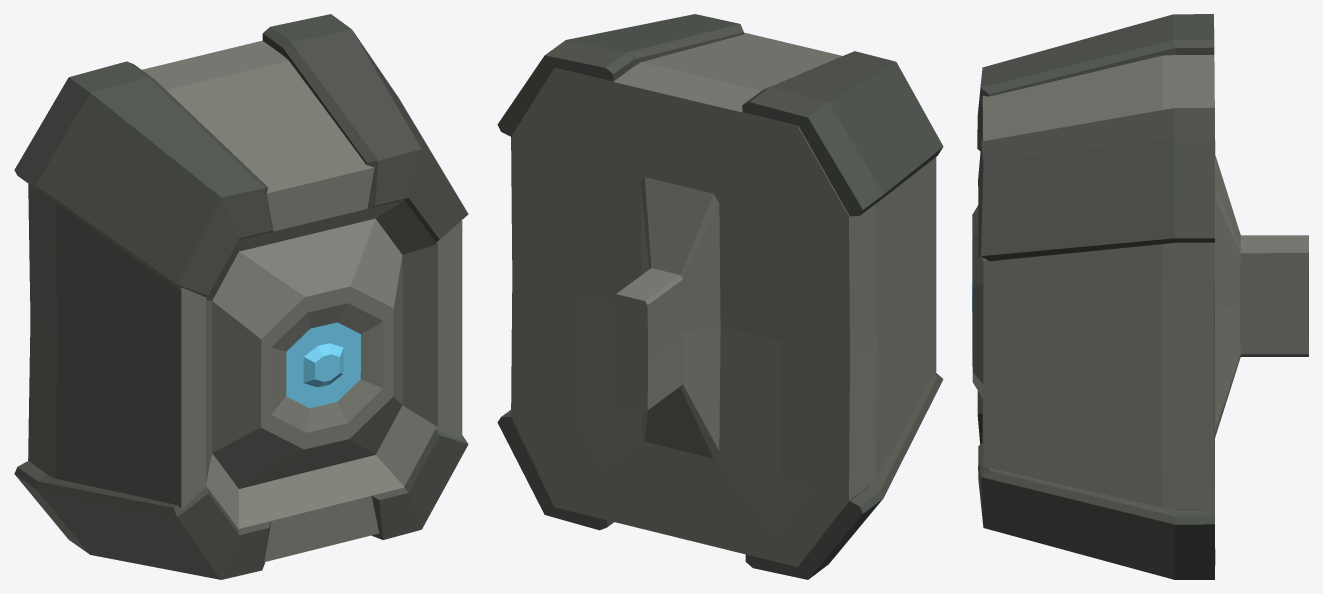
The model's file is 绕柱移动的发射器.fbx.
The picture shows the model from 3 angles, left to right: view 1: azimuth 30°, elevation 25°; view 2: azimuth 150°, elevation 25°; view 3: azimuth 270°, elevation 25°; orthographic projection. The views are drawn at different scales.
Parts seen in each view (by area): view 1: 柱体.006, 柱体.001; view 2: 柱体.006, 柱体.001; view 3: 柱体.006, 柱体.001.
Part boxes in pixels (x1,y1,x2,y2): 柱体.006: (28,40,462,562); 柱体.001: (14,14,468,579); 柱体.006: (511,32,936,566); 柱体.001: (497,14,943,579); 柱体.006: (972,29,1308,565); 柱体.001: (977,14,1214,579).
Bounding box in the file's own units: 86.24 × 105 × 71.8.
